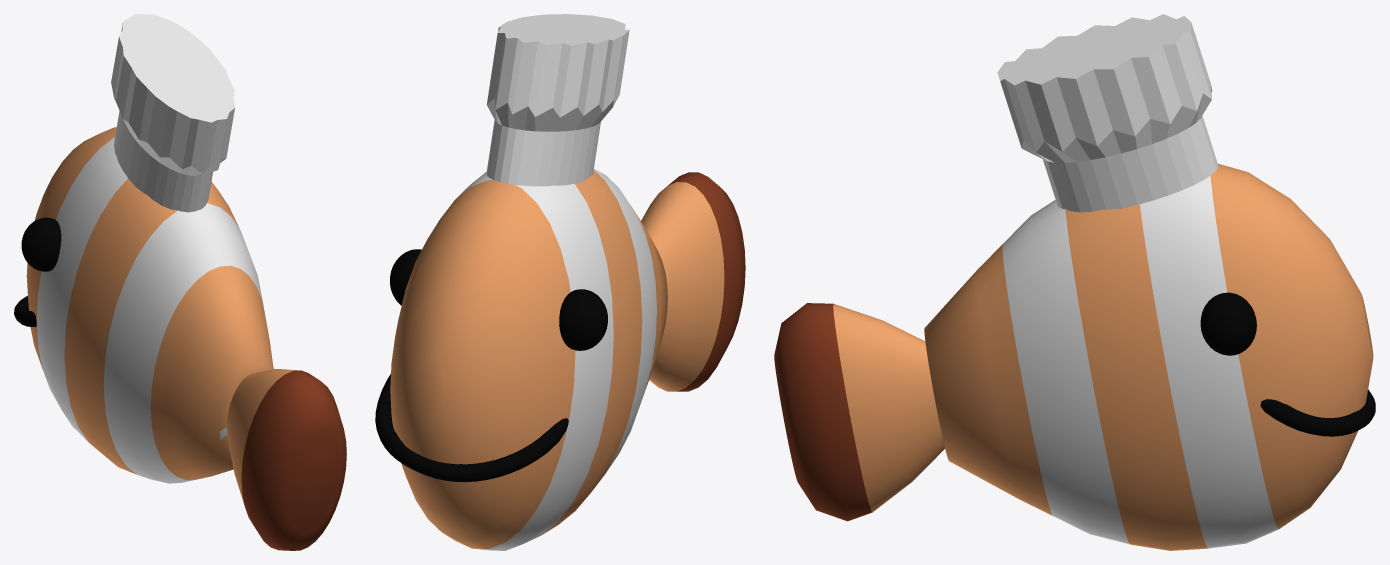
File: fish.glb
3 renders of one model, left to right at view 1: azimuth 30°, elevation 25°; view 2: azimuth 150°, elevation 25°; view 3: azimuth 270°, elevation 25°, orthographic. The views are drawn at different scales.
Parts seen in each view (by area): view 1: Circle, Circle.003, Circle.001, Sphere.002, mouth.001; view 2: Circle, Circle.003, Circle.001, mouth.001, Sphere.002, Sphere.004; view 3: Circle, Circle.003, Circle.001, Sphere.004, mouth.001.
Part boxes in pixels (x1,y1,x2,y2): Circle: (26, 127, 273, 483); Circle.003: (111, 14, 234, 212); Circle.001: (226, 369, 346, 550); Sphere.002: (21, 217, 61, 271); mouth.001: (14, 295, 36, 327); Circle: (390, 169, 667, 550); Circle.003: (486, 14, 629, 186); Circle.001: (641, 172, 745, 391); mouth.001: (375, 374, 568, 482); Sphere.002: (559, 289, 607, 350); Sphere.004: (390, 249, 421, 305); Circle: (924, 163, 1373, 550); Circle.003: (997, 14, 1218, 212); Circle.001: (774, 303, 944, 521); Sphere.004: (1200, 292, 1256, 355); mouth.001: (1260, 389, 1375, 436).
Size of the model in its own units: 0.4026 by 0.9132 by 0.9543.
